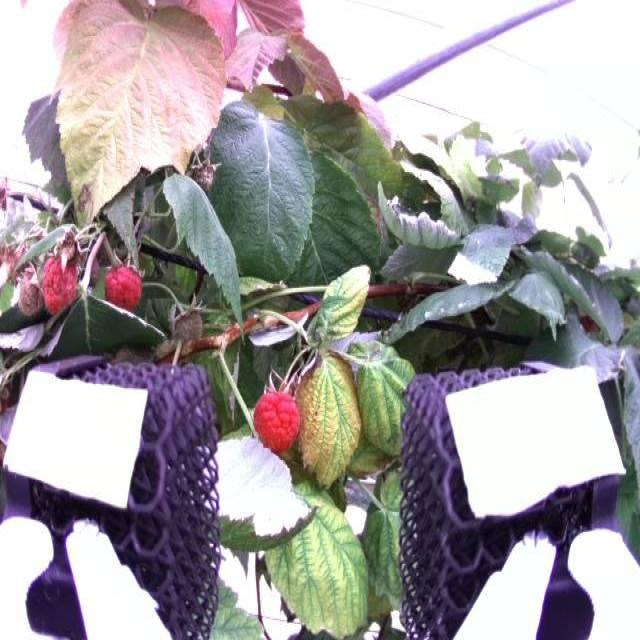Riped berries: (254, 388, 304, 454), (41, 254, 82, 313), (103, 259, 147, 312)
